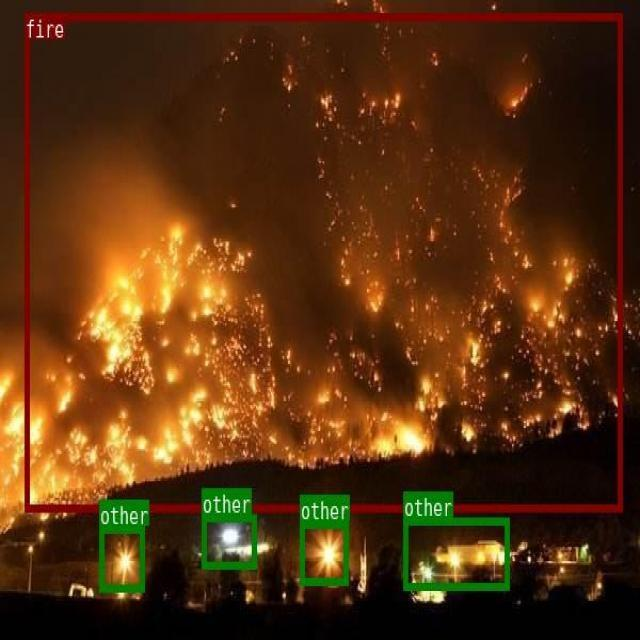fire: (24, 13, 622, 511)
